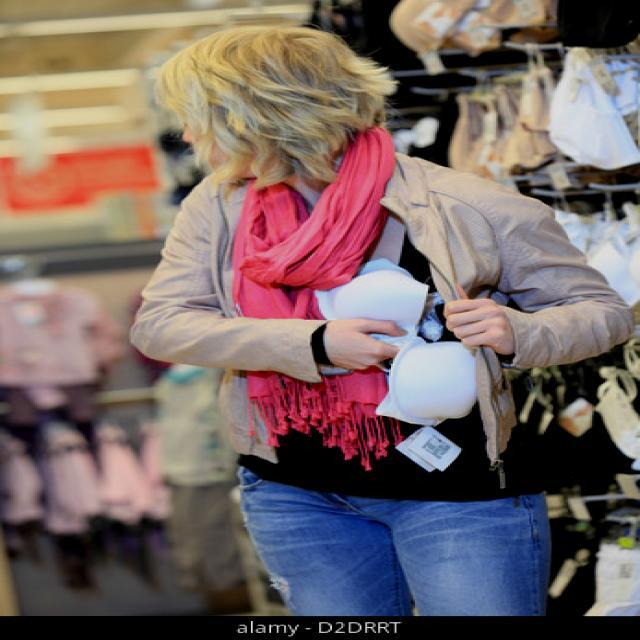shoplifting: (197, 159, 579, 494)
